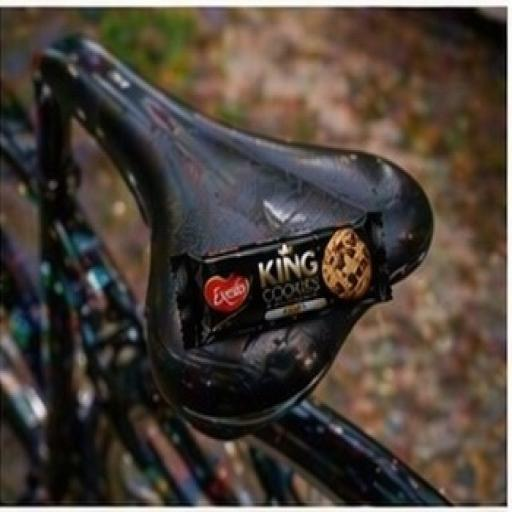king-cooking: (136, 170, 436, 397)
